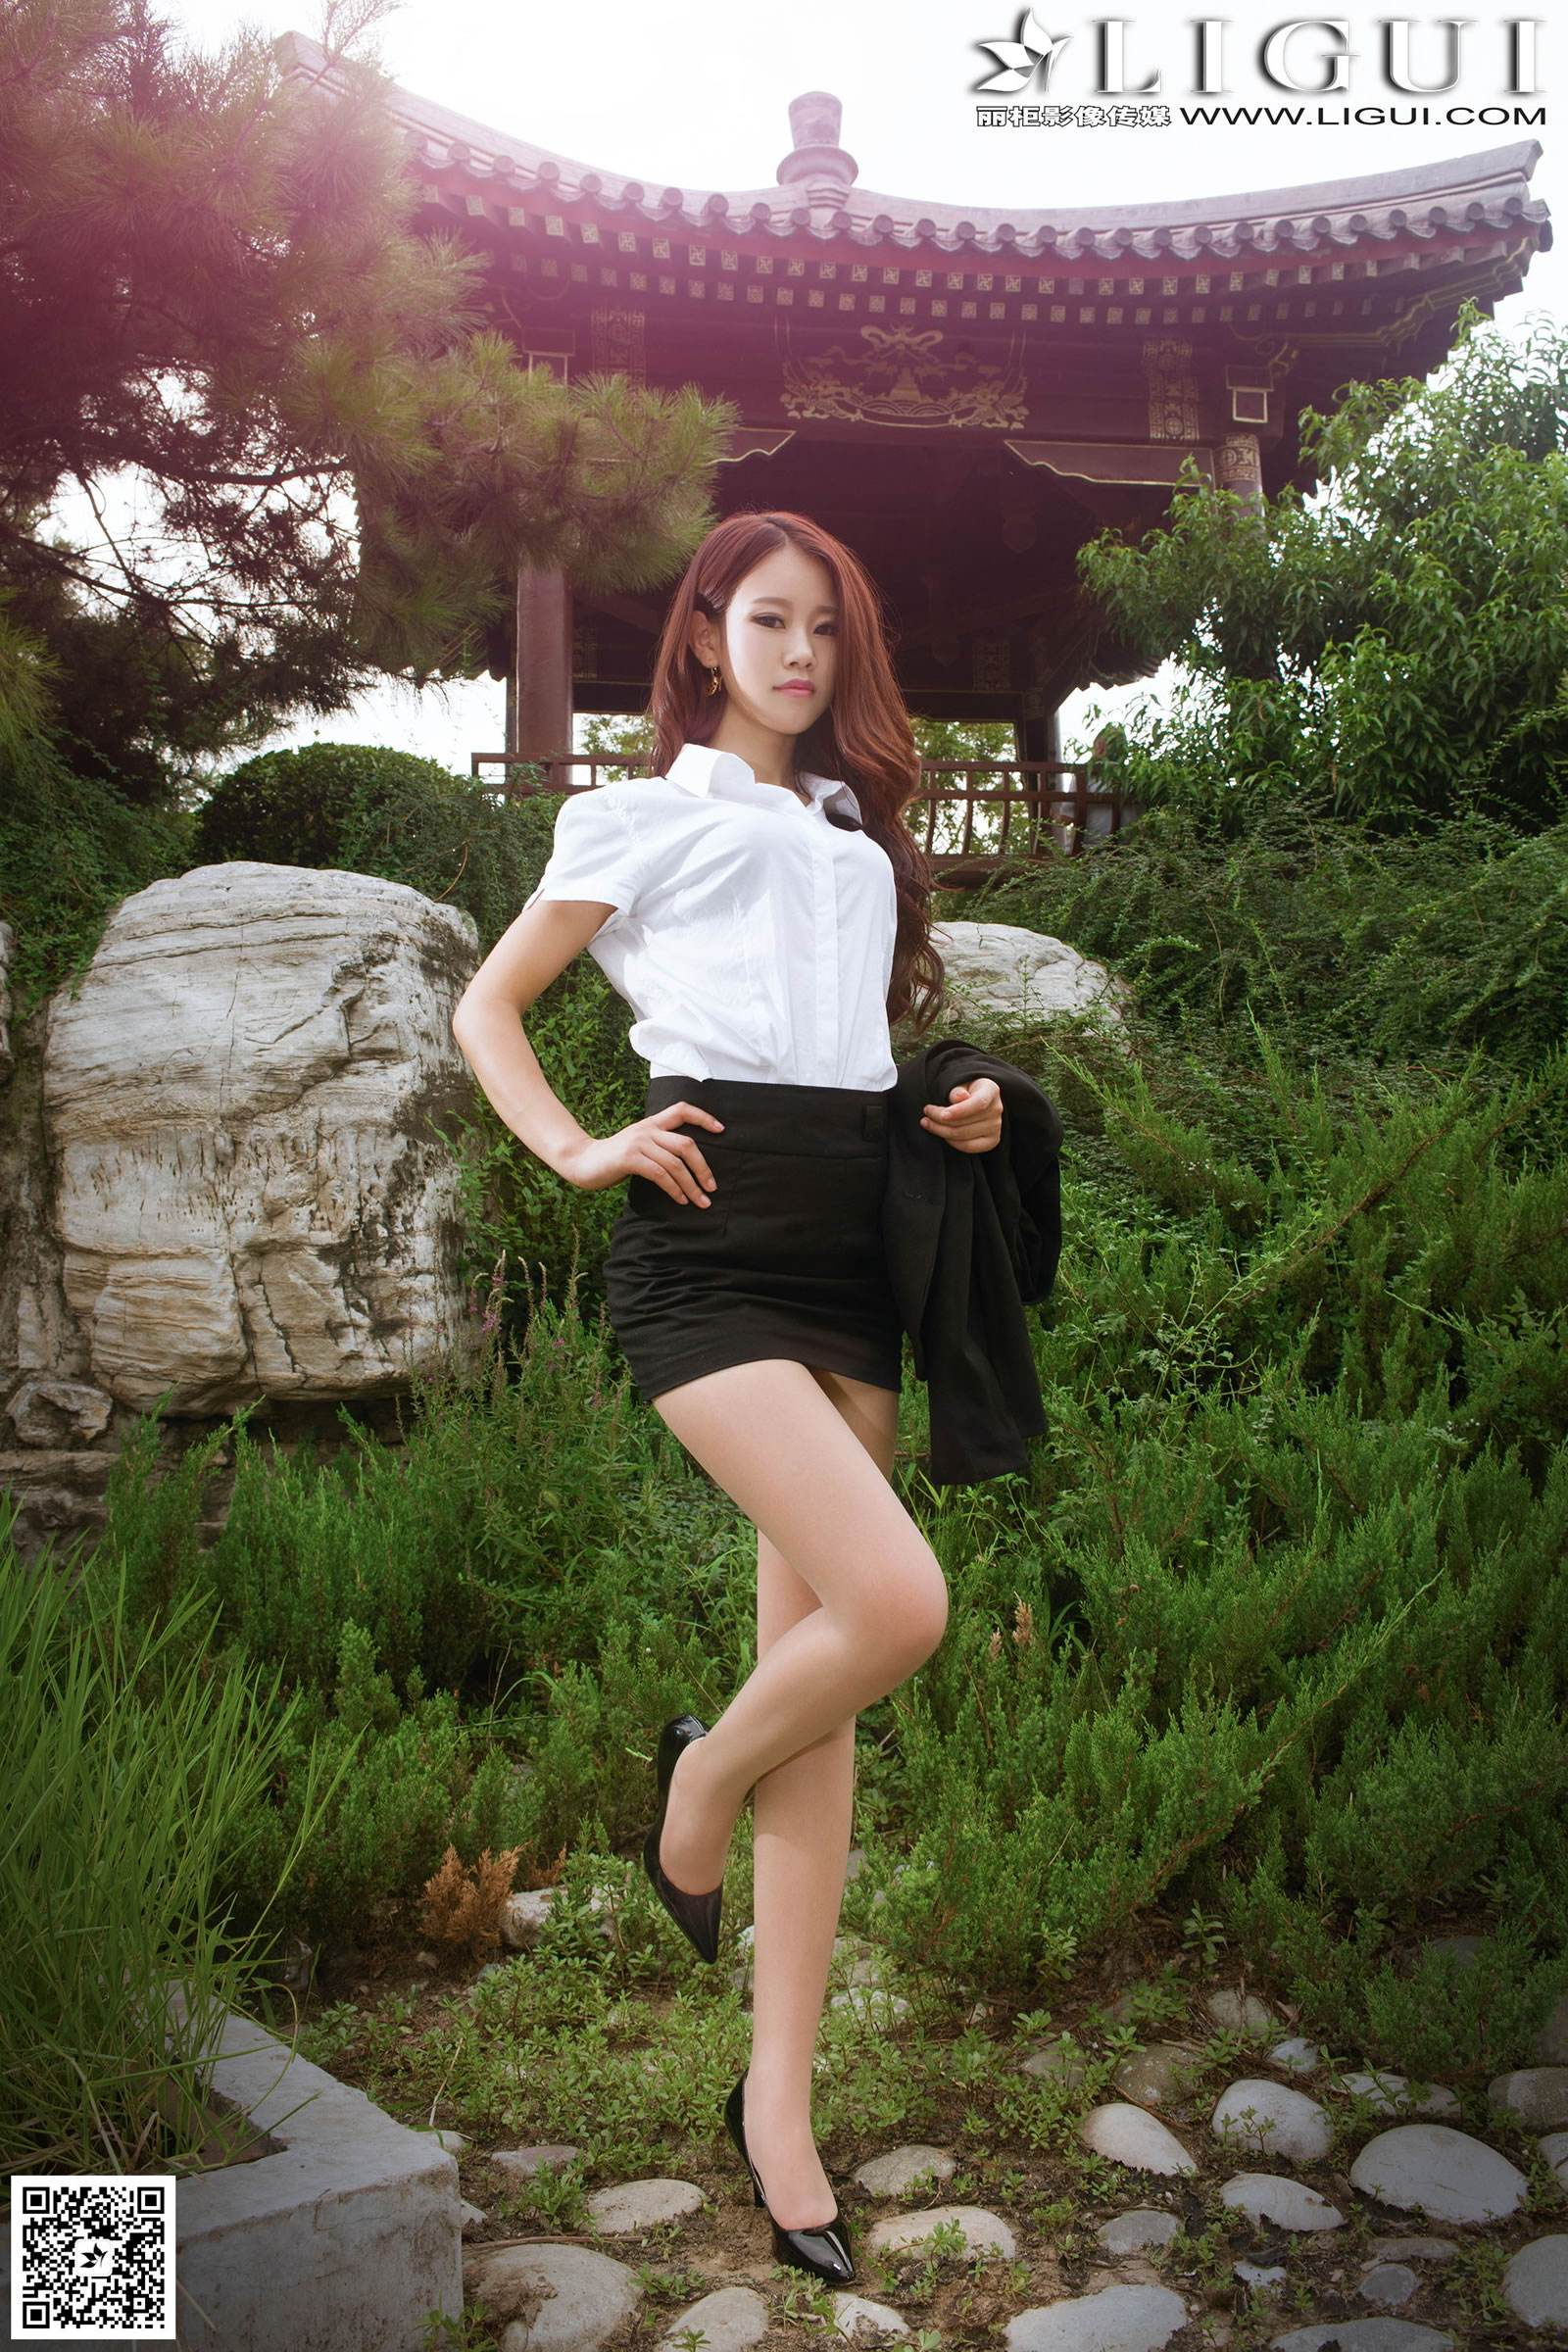person: (448, 514, 1131, 1952)
